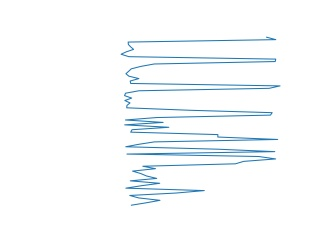crevasseRiverChannelBar: (124, 160, 276, 205)
majorRiverBedLagDeposit: (120, 120, 286, 164)
majorRiverChannelBar: (121, 33, 281, 116)
